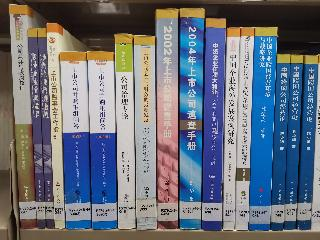book-spine: (245, 24, 280, 232), (9, 4, 38, 230), (176, 8, 205, 230), (59, 50, 93, 230), (86, 50, 117, 230), (201, 19, 227, 231), (156, 8, 179, 229), (113, 32, 137, 228), (134, 35, 158, 229), (296, 54, 320, 231), (221, 28, 241, 231), (27, 28, 47, 230), (47, 22, 66, 230), (35, 27, 54, 229), (284, 55, 305, 230), (271, 54, 290, 230), (238, 28, 254, 232)
